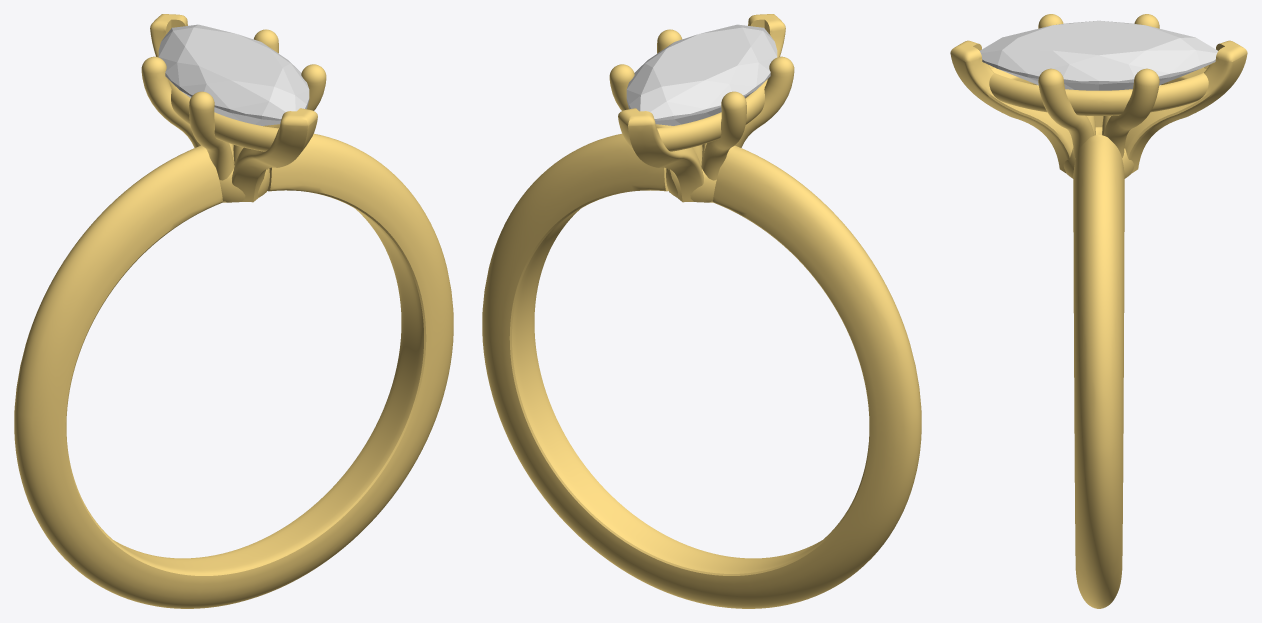
File: Dan6prongYG_blender.glb
3 renders of one model, left to right at view 1: azimuth 30°, elevation 25°; view 2: azimuth 150°, elevation 25°; view 3: azimuth 270°, elevation 25°, orthographic.
Visible parts, largest first — view 1: Dan 6 YG for 3d model, Dan dia for 3d model; view 2: Dan 6 YG for 3d model, Dan dia for 3d model; view 3: Dan 6 YG for 3d model, Dan dia for 3d model.
Part boxes in pixels (left/top/right/bottom): Dan 6 YG for 3d model: left=14, top=14, right=453, bottom=608; Dan dia for 3d model: left=158, top=24, right=309, bottom=125; Dan 6 YG for 3d model: left=482, top=14, right=921, bottom=608; Dan dia for 3d model: left=626, top=24, right=777, bottom=125; Dan 6 YG for 3d model: left=950, top=14, right=1247, bottom=608; Dan dia for 3d model: left=980, top=20, right=1217, bottom=90.
Bounding box in the file's own units: 19.7 × 23.55 × 11.59.
